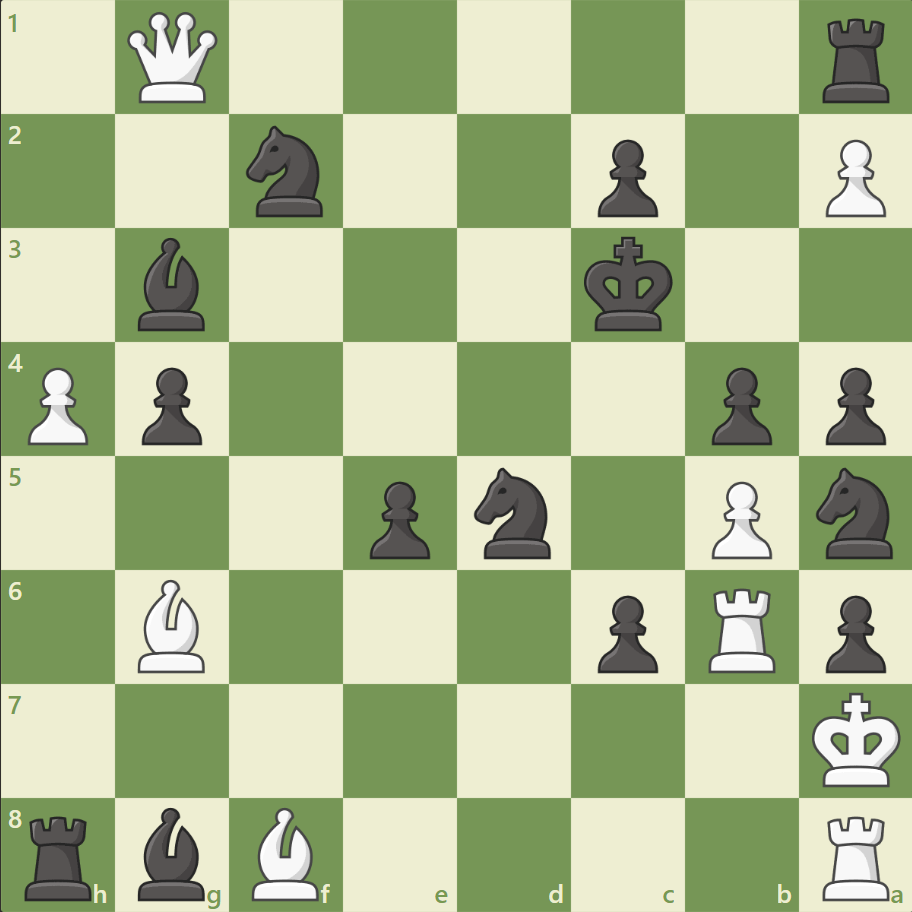B: (244, 801, 328, 904), (131, 574, 215, 676)
K: (806, 685, 906, 793)
P: (701, 473, 776, 564), (20, 359, 95, 450), (815, 132, 889, 223)
Q: (124, 9, 223, 108)
R: (814, 806, 897, 904), (700, 579, 783, 676)
b: (131, 801, 215, 904), (131, 233, 215, 336)
k: (579, 231, 679, 339)
n: (806, 461, 903, 564), (465, 461, 562, 564), (238, 121, 335, 223)
p: (701, 359, 776, 450), (133, 359, 208, 450), (815, 586, 889, 677), (588, 586, 662, 677), (361, 473, 435, 564), (815, 359, 889, 450), (588, 132, 662, 223)
r: (19, 806, 102, 904), (814, 12, 897, 109)
